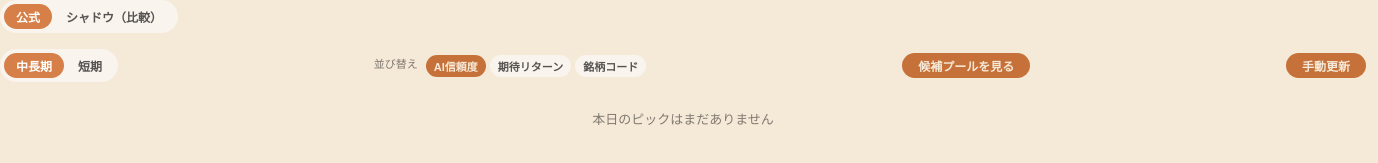
Scenario: AiPicksSection › シャドウ（比較）タブに切り替えるとシャドウ一覧を表示する
The width and height of the screenshot is (1378, 163).
Check: the text "本日のピックはまだありません" is shown, box x1=592 y1=112 x2=774 y2=127
Click the button "シャドウ（比較）" at [114, 16], box x1=54 y1=4 x2=174 y2=29
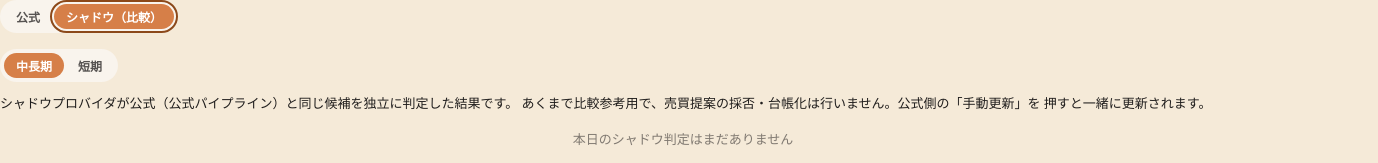
Check: the text "本日のシャドウ判定はまだありません" is shown, box x1=573 y1=132 x2=793 y2=146
